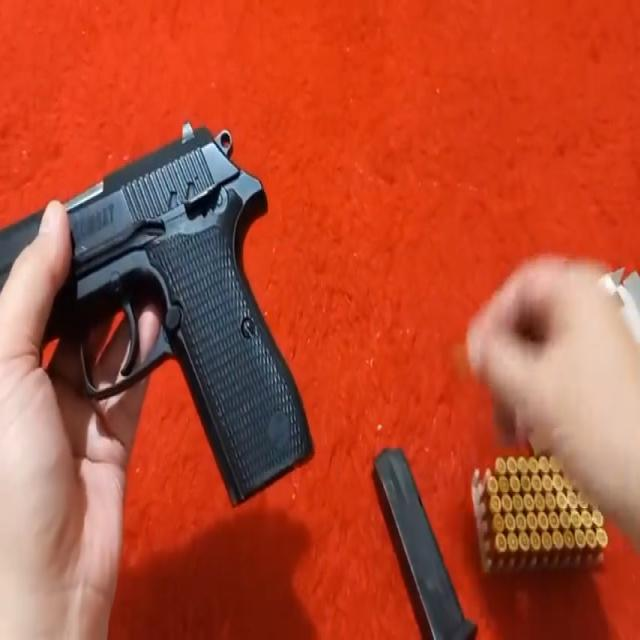handgun: (0, 108, 316, 516)
